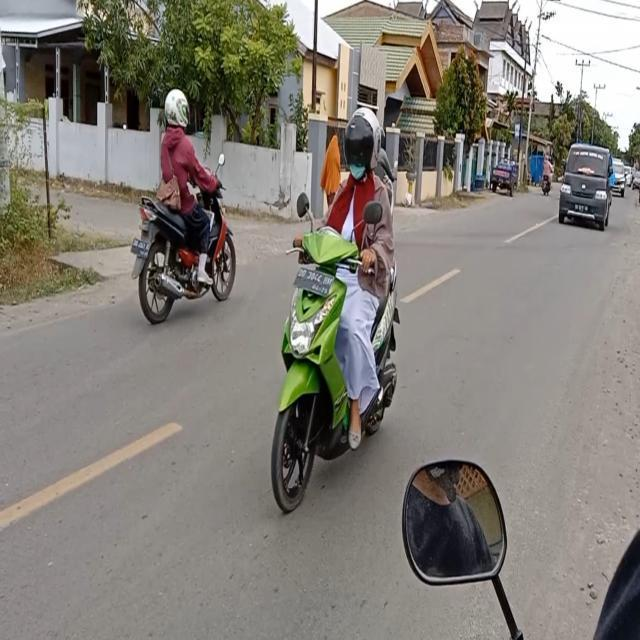motorcycle: (273, 96, 412, 492), (126, 84, 240, 310)
